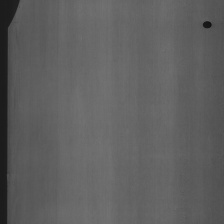punching_hole: (7, 0, 22, 31), (201, 17, 213, 32)
